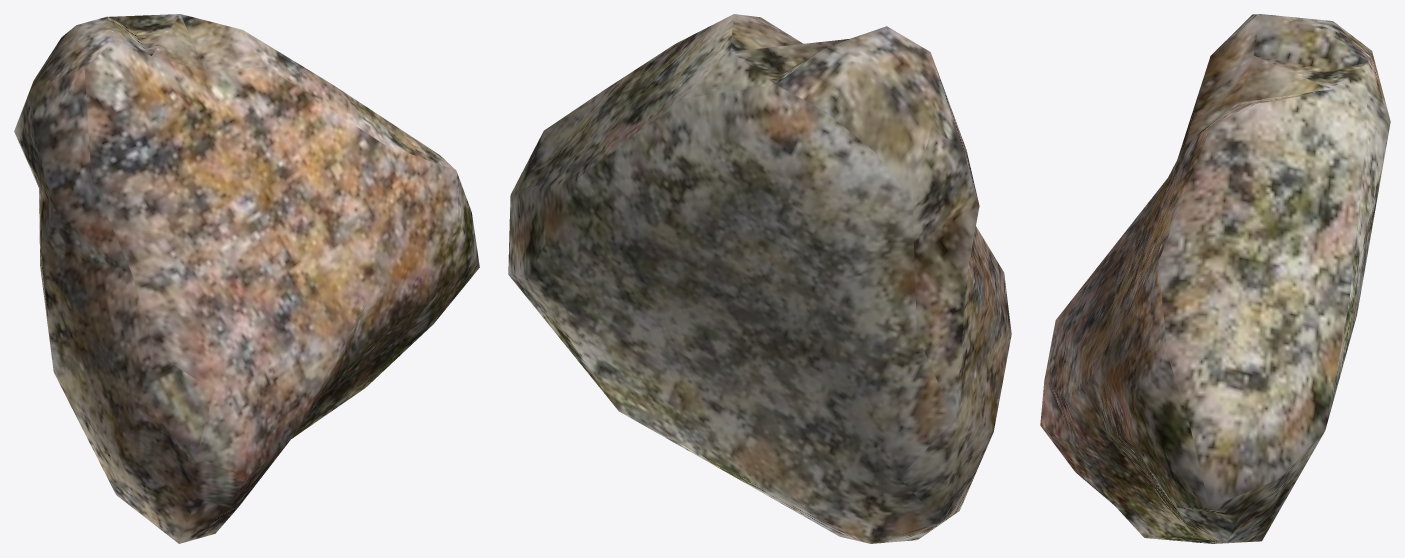
The picture shows the model from 3 angles, left to right: view 1: azimuth 30°, elevation 25°; view 2: azimuth 150°, elevation 25°; view 3: azimuth 270°, elevation 25°; orthographic projection. The views are drawn at different scales.
Parts seen in each view (by area): view 1: rock043_lod4; view 2: rock043_lod4; view 3: rock043_lod4.
Part boxes in pixels (x1,y1,x2,y2): rock043_lod4: (14, 14, 479, 543); rock043_lod4: (508, 14, 1011, 543); rock043_lod4: (1040, 14, 1390, 543).
Size of the model in its own units: 1 by 1.09 by 0.6835.
Materials: 1 (1 with a texture image).
